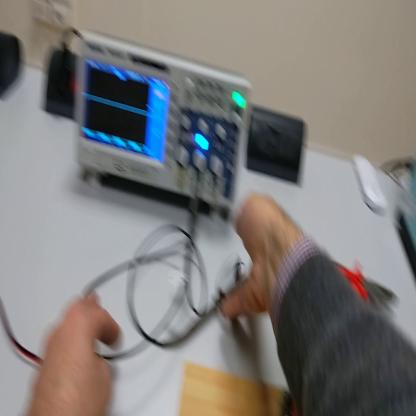hand: (34, 289, 125, 416), (221, 195, 292, 321)
low voltage board: (281, 386, 301, 414)
oscilloscope probe tip: (186, 293, 244, 334)
pliers: (334, 259, 402, 308)
socket: (45, 49, 78, 123), (2, 29, 28, 103)
welder station: (79, 29, 253, 225), (399, 158, 416, 279)
working area: (178, 366, 282, 413)
